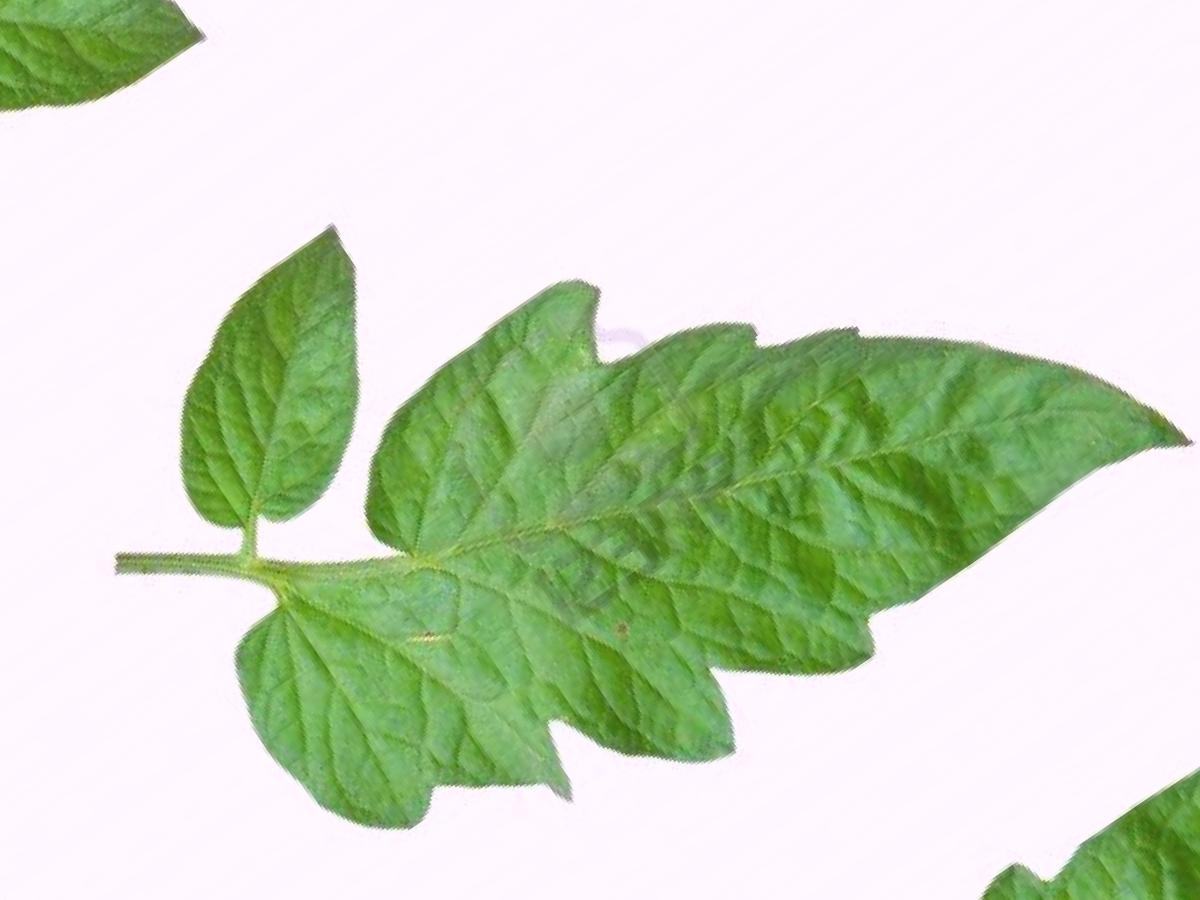Tomato leaf: (93, 6, 1200, 900), (84, 172, 492, 563)
